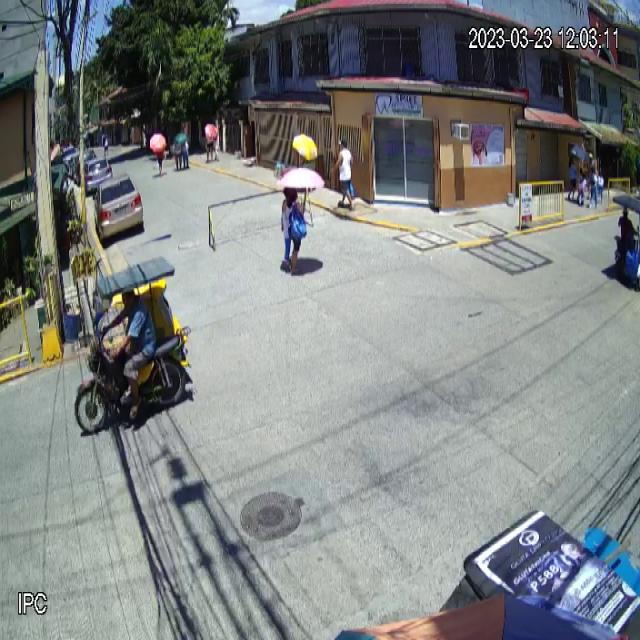Tricycle: (74, 255, 194, 434)
